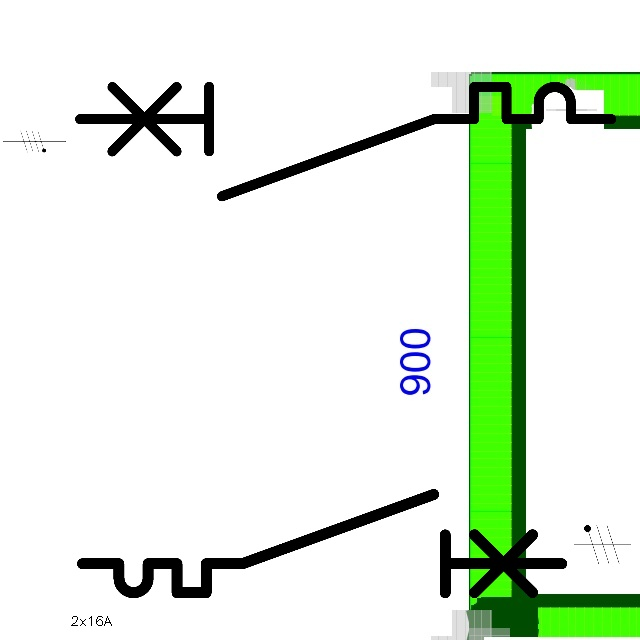interruptor_termomagnetico: (66, 73, 625, 209), (70, 482, 573, 605)
